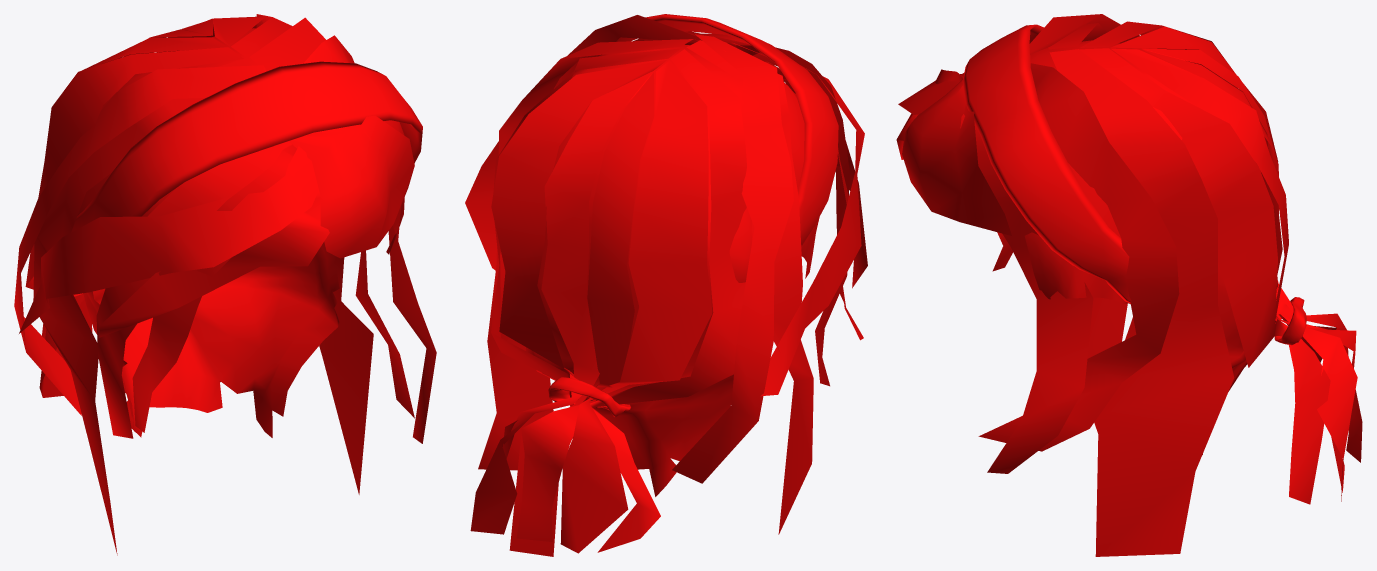
File: sonntag78_blond_with_headband_F.glb
The picture shows the model from 3 angles, left to right: view 1: azimuth 30°, elevation 25°; view 2: azimuth 150°, elevation 25°; view 3: azimuth 270°, elevation 25°; orthographic projection. The views are drawn at different scales.
Size of the model in its own units: 0.2239 by 0.2941 by 0.2653.
1 material, 1 textured.
